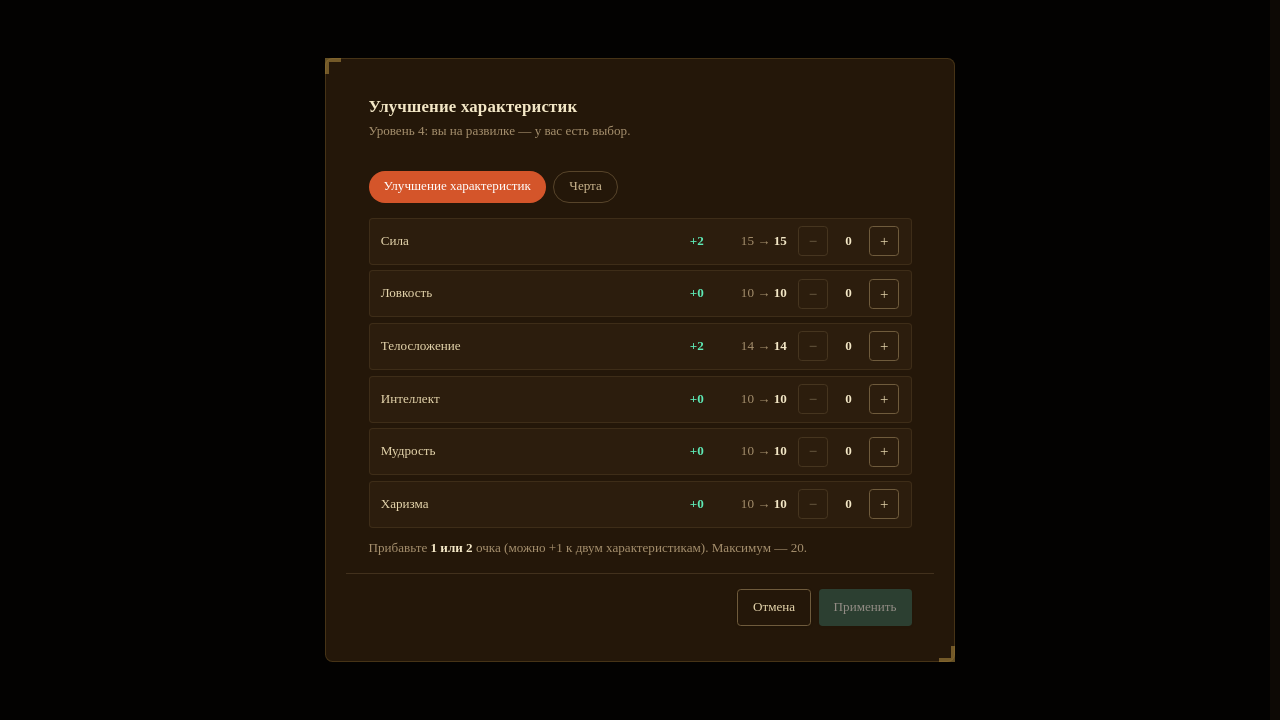
Test case: AsiChoiceModal › feat mode › shows a search input and empty state
Click the button "Черта": point(586, 187) x1=553 y1=171 x2=618 y2=203
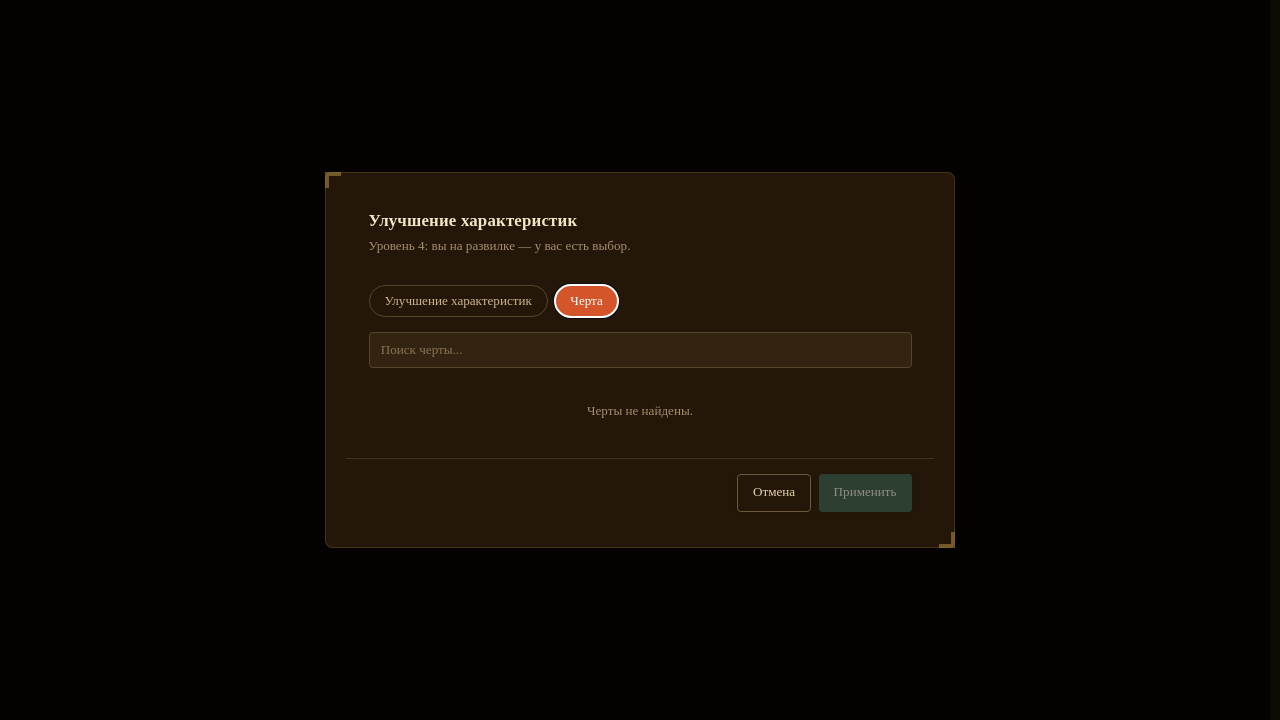
Result: the search field with placeholder "Поиск черты..." is shown at x1=368 y1=332 x2=912 y2=368
Result: the text "Черты не найдены." is shown at x1=587 y1=403 x2=693 y2=418
